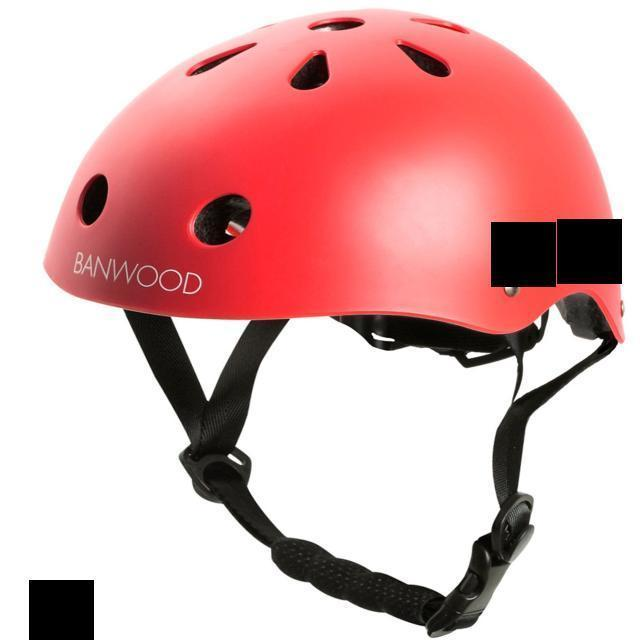helmet: (41, 6, 625, 637)
